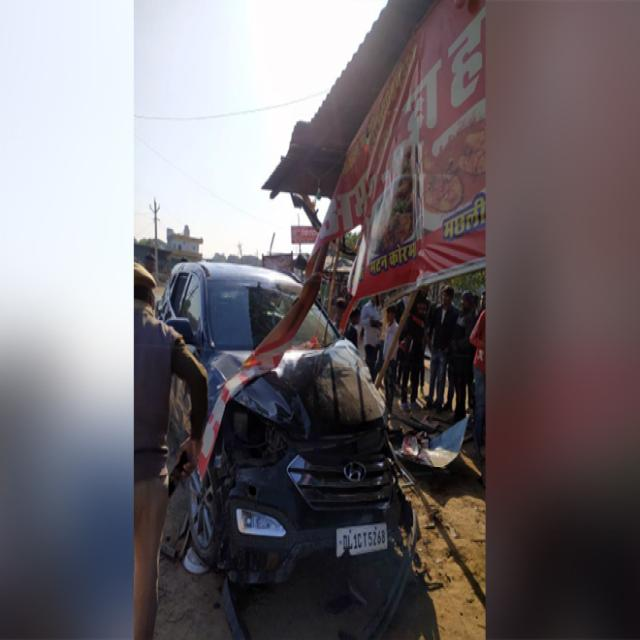accident: (159, 262, 419, 638), (432, 467, 450, 488)
